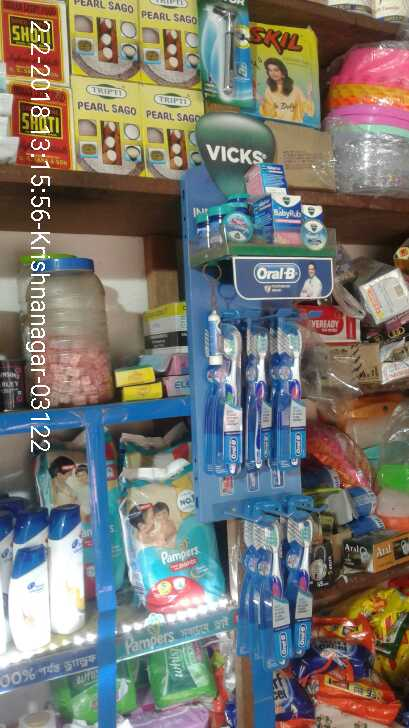beauty: (48, 497, 88, 634), (8, 546, 52, 646)
pharmacy: (116, 466, 229, 609), (197, 162, 326, 248), (243, 509, 292, 667), (280, 507, 329, 665), (205, 321, 246, 477), (275, 325, 310, 463), (249, 328, 270, 466)
